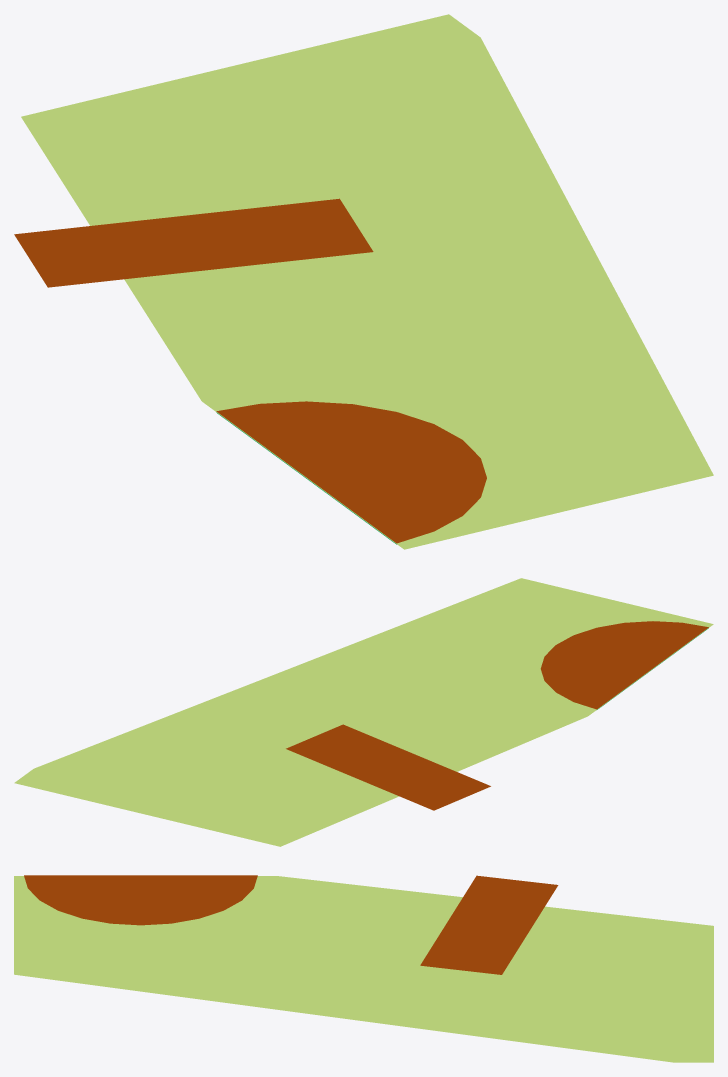
File: room1_allcarpets.fbx
3 renders of one model, top to bottom at view 1: azimuth 30°, elevation 25°; view 2: azimuth 150°, elevation 25°; view 3: azimuth 270°, elevation 25°, orthographic. The views are drawn at different scales.
Parts seen in each view (by area): view 1: REF_room1_allcarpets:carpet_long_l, REF_room1_allcarpets:T_CarpetR, REF_room1_allcarpets:phonecarpet, REF_room1_allcarpets:carpet_long_r; view 2: REF_room1_allcarpets:carpet_long_l, REF_room1_allcarpets:T_CarpetR, REF_room1_allcarpets:phonecarpet, REF_room1_allcarpets:carpet_long_r; view 3: REF_room1_allcarpets:carpet_long_l, REF_room1_allcarpets:T_CarpetR, REF_room1_allcarpets:phonecarpet, REF_room1_allcarpets:carpet_long_r.
Boxes of the visible parts, x1,y1,x2,y2 form: REF_room1_allcarpets:carpet_long_l: (21, 14, 713, 529); REF_room1_allcarpets:T_CarpetR: (216, 401, 486, 543); REF_room1_allcarpets:phonecarpet: (14, 198, 373, 287); REF_room1_allcarpets:carpet_long_r: (203, 402, 487, 549); REF_room1_allcarpets:carpet_long_l: (14, 578, 709, 846); REF_room1_allcarpets:T_CarpetR: (540, 621, 708, 709); REF_room1_allcarpets:phonecarpet: (286, 724, 490, 810); REF_room1_allcarpets:carpet_long_r: (631, 612, 713, 684); REF_room1_allcarpets:carpet_long_l: (14, 876, 713, 1062); REF_room1_allcarpets:T_CarpetR: (24, 875, 257, 925); REF_room1_allcarpets:phonecarpet: (420, 875, 558, 974); REF_room1_allcarpets:carpet_long_r: (14, 876, 273, 902).
Bounding box in the file's own units: 47.51 × 76 × 0.2565.
